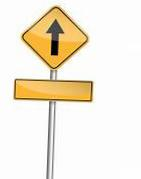forward: (22, 5, 88, 71)
